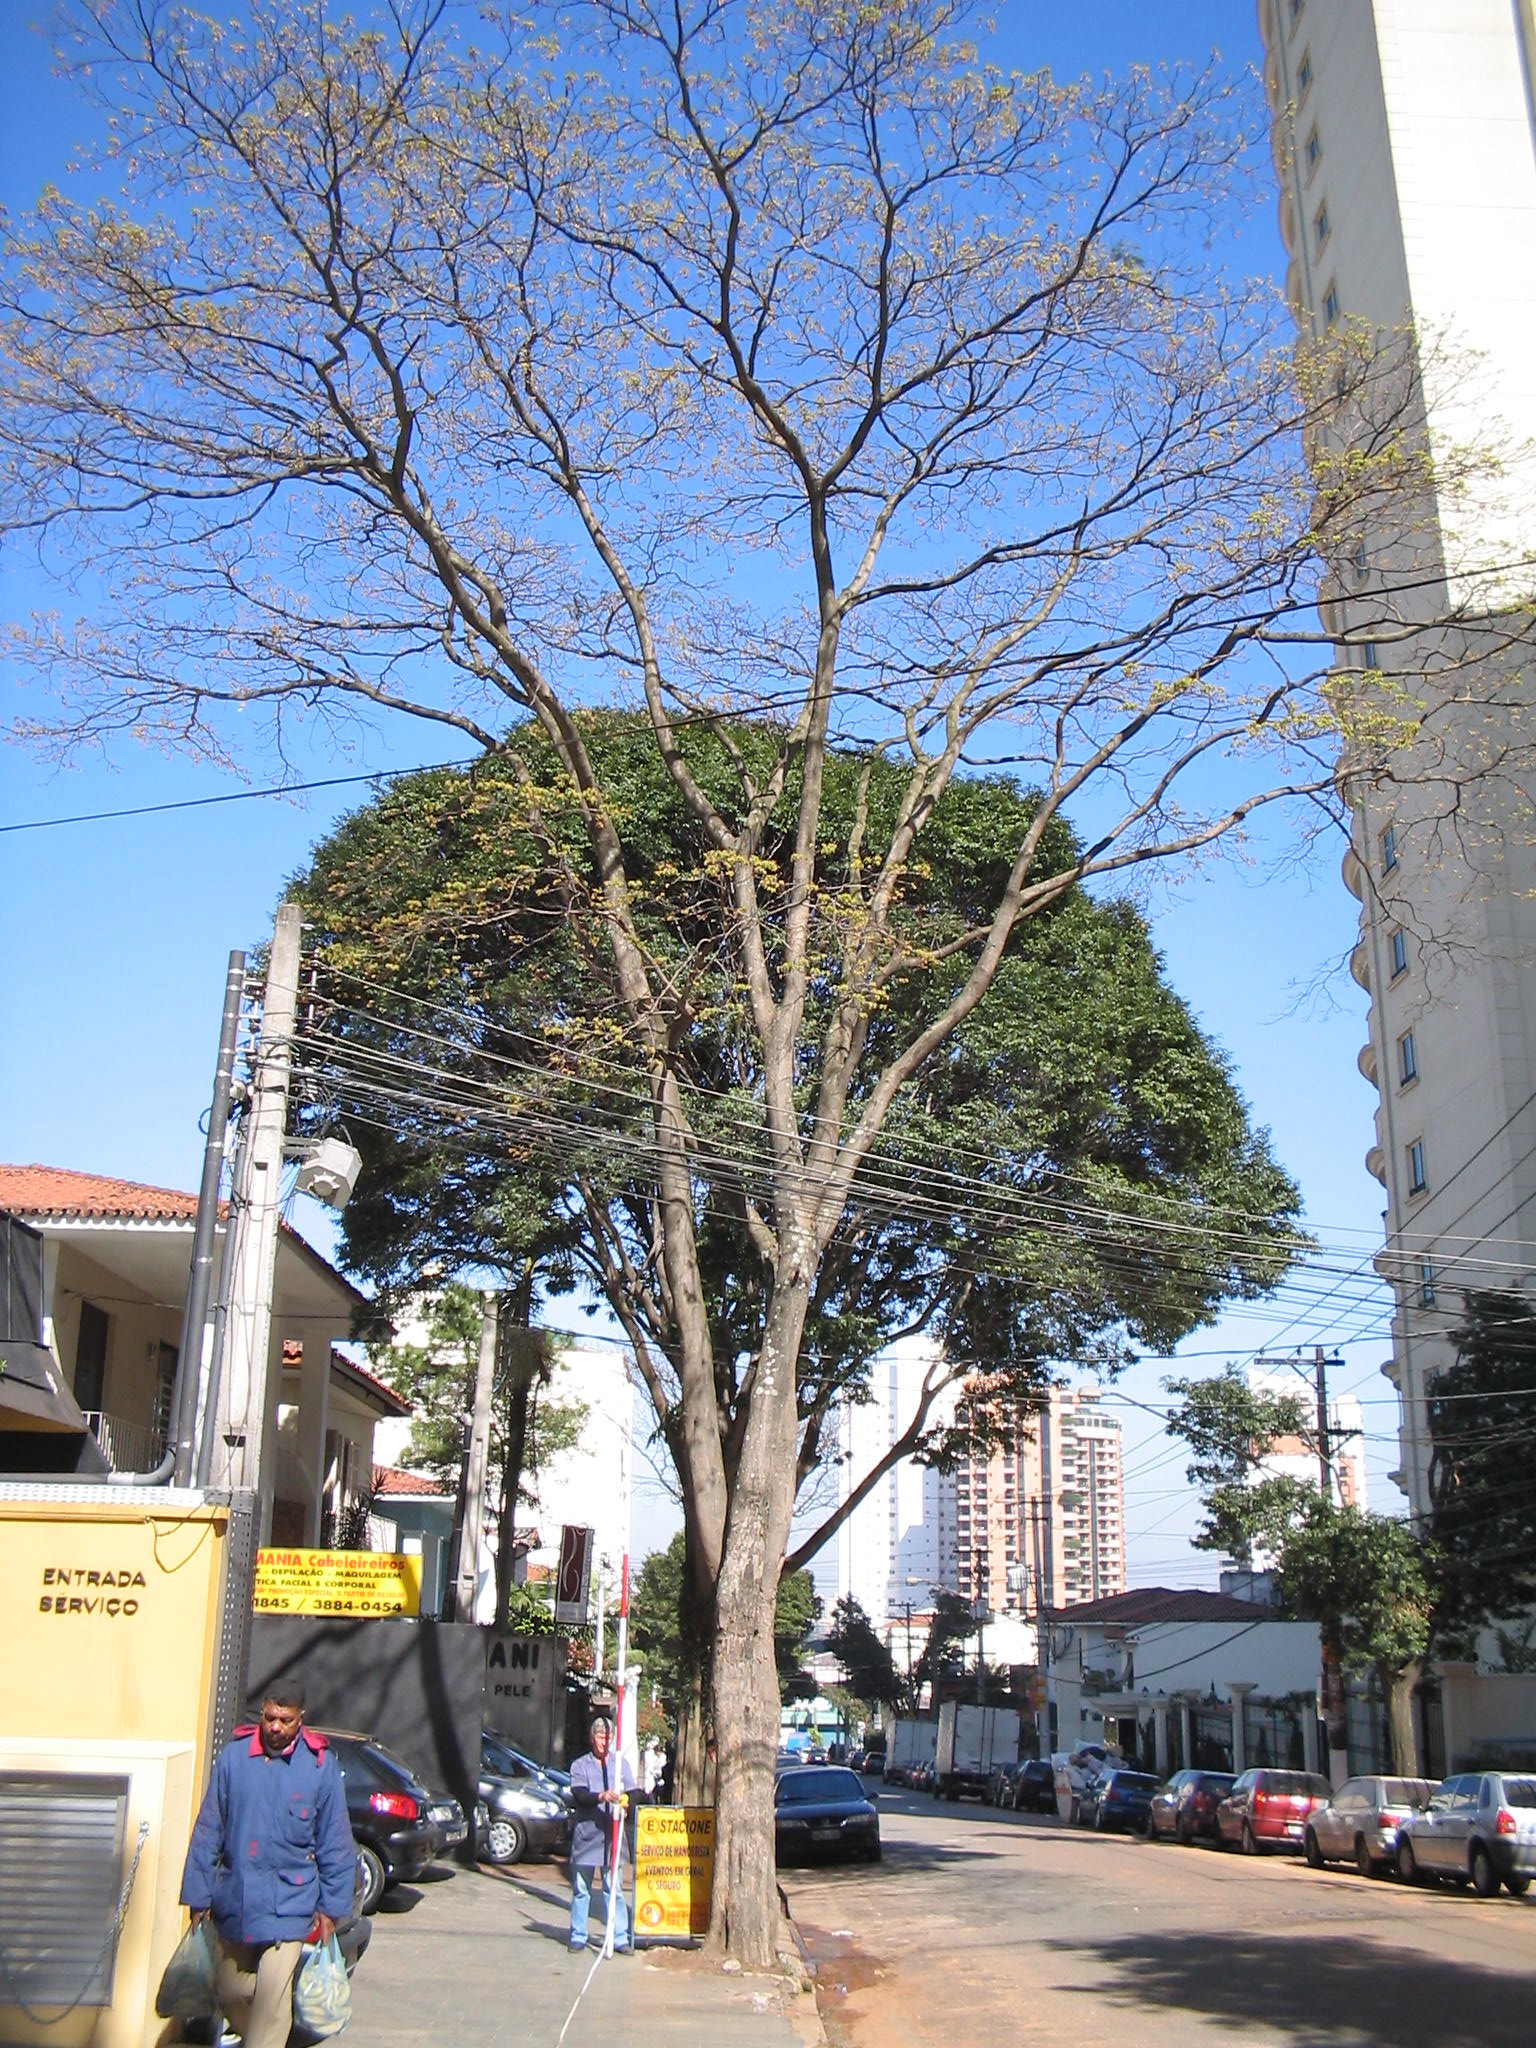crown: (239, 708, 1317, 1484)
stem: (658, 1584, 845, 1963)
stick: (579, 1555, 657, 1961)
tree: (10, 11, 1530, 1967), (232, 705, 1328, 1937)
